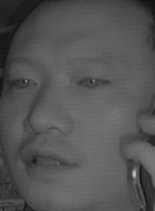eye: (74, 71, 110, 93), (9, 72, 39, 94)
mouth: (18, 139, 84, 182)
